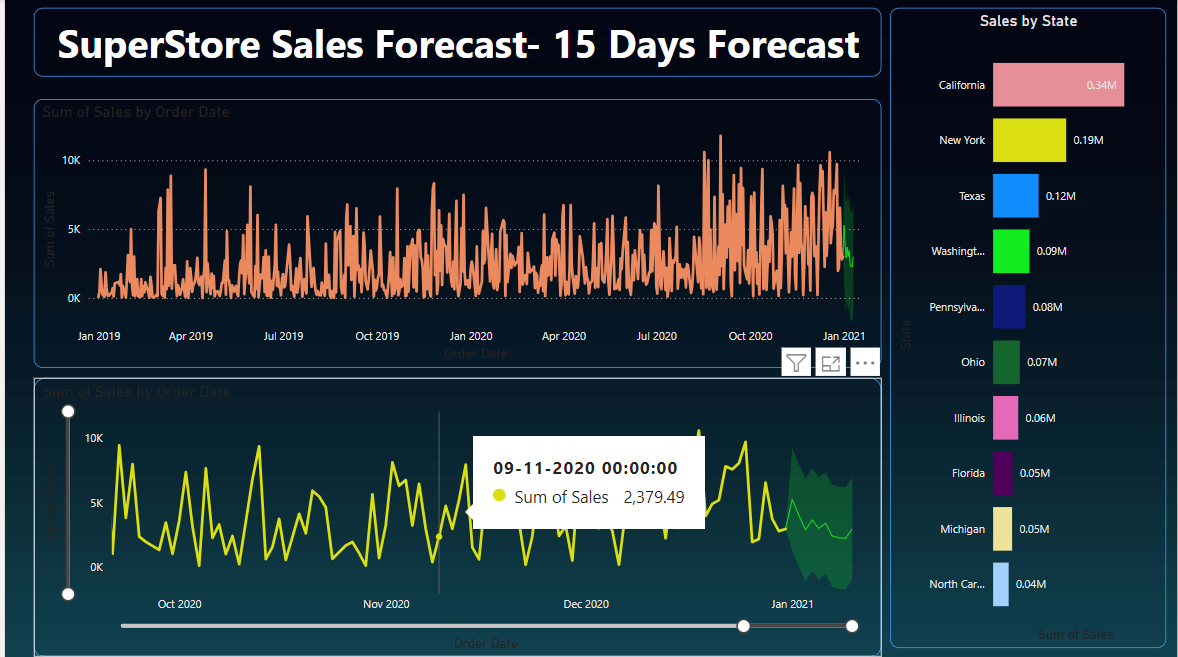

This screenshot's page, from the dashboard's own definition file:
{"tool":"powerbi","page":{"name":"Page 2","canvas":[1280,720],"ordinal":1},"visuals":[{"type":"lineChart","fields":{"Y":["Sum(store_data.Sales)"],"Category":["store_data.Order Date"]},"box":[31.4,109.1,926,293.2],"z":0},{"type":"lineChart","fields":{"Y":["Sum(store_data.Sales)"],"Category":["store_data.Order Date"]},"box":[31.5,414.1,925.5,305.7],"z":1000},{"type":"clusteredBarChart","title":"Sales by State","fields":{"Category":["store_data.State"],"Y":["Sum(store_data.Sales)"]},"box":[966.9,9.5,301.4,699.6],"z":2000},{"type":"textbox","box":[31.4,9.5,926,75],"z":3000}]}

Visuals, with their boxes in screenshot pixels (x1, y1, x2, y2), scaled from the page's 1280x720 canvas onto the 1178x657 screenshot:
lineChart - Sum(store_data.Sales) x store_data.Order Date: [x1=29, y1=100, x2=881, y2=367]
lineChart - Sum(store_data.Sales) x store_data.Order Date: [x1=29, y1=378, x2=881, y2=656]
"Sales by State" clusteredBarChart: [x1=890, y1=9, x2=1167, y2=647]
textbox: [x1=29, y1=9, x2=881, y2=77]
